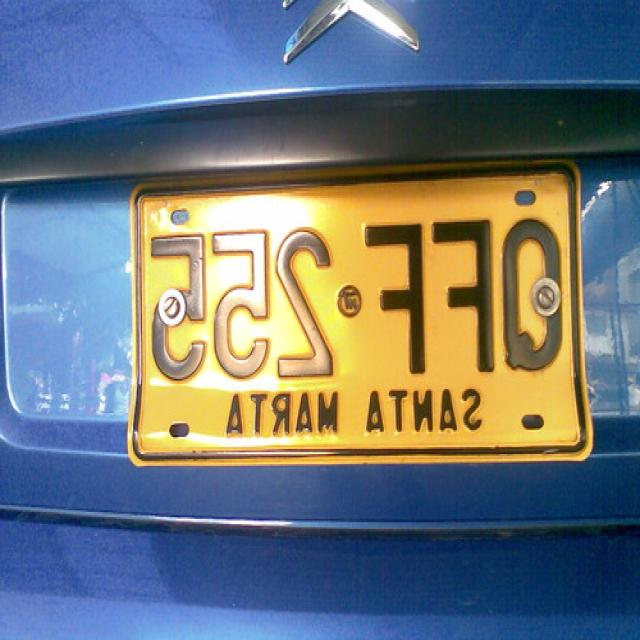placas: (145, 167, 573, 388)
